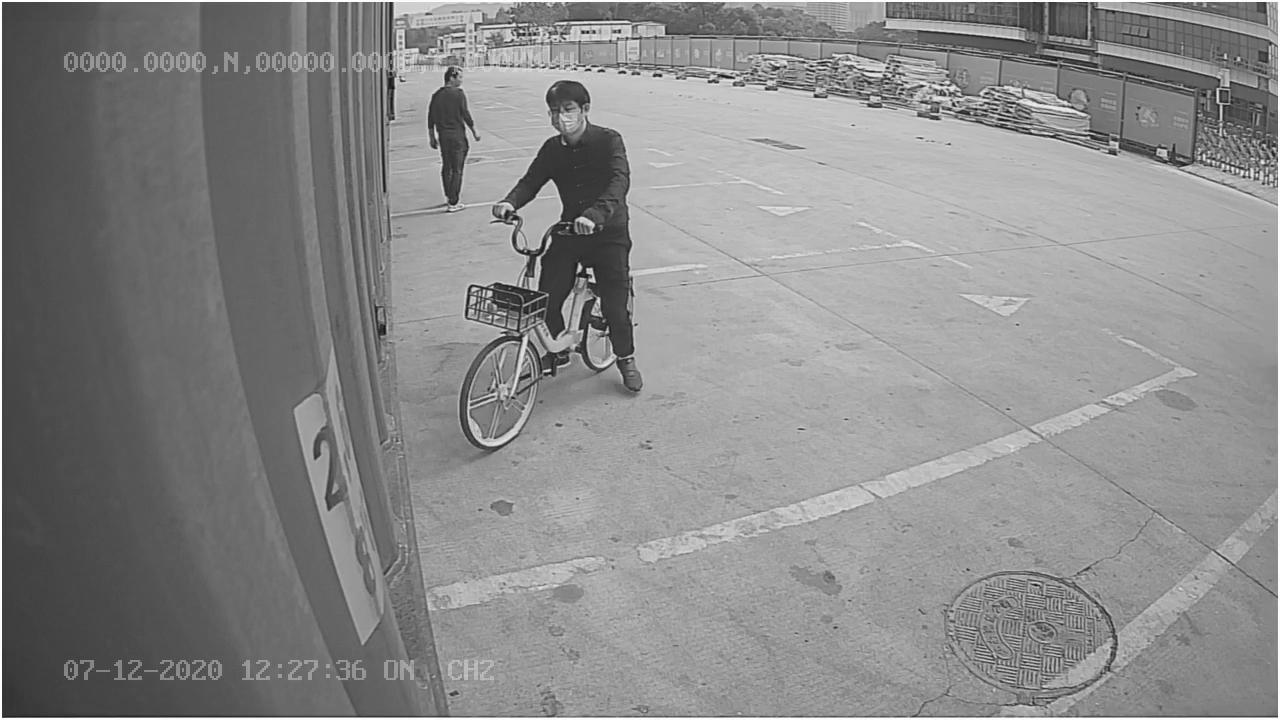person: (416, 62, 485, 215)
